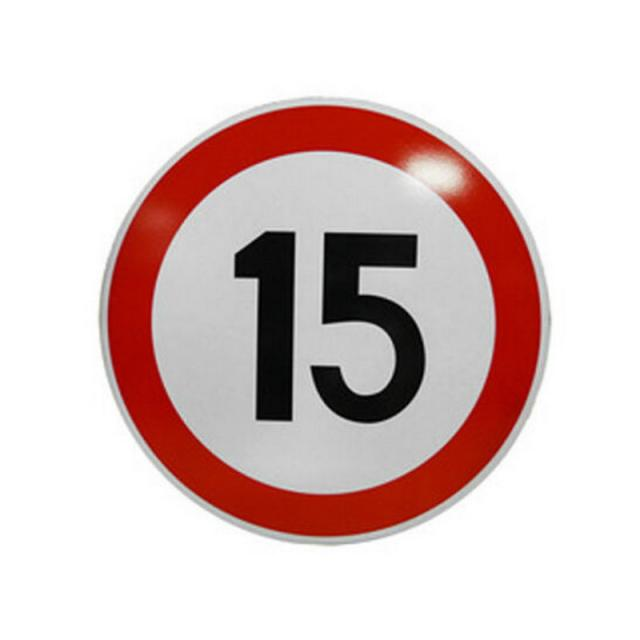speed limit 20: (100, 98, 554, 544)
